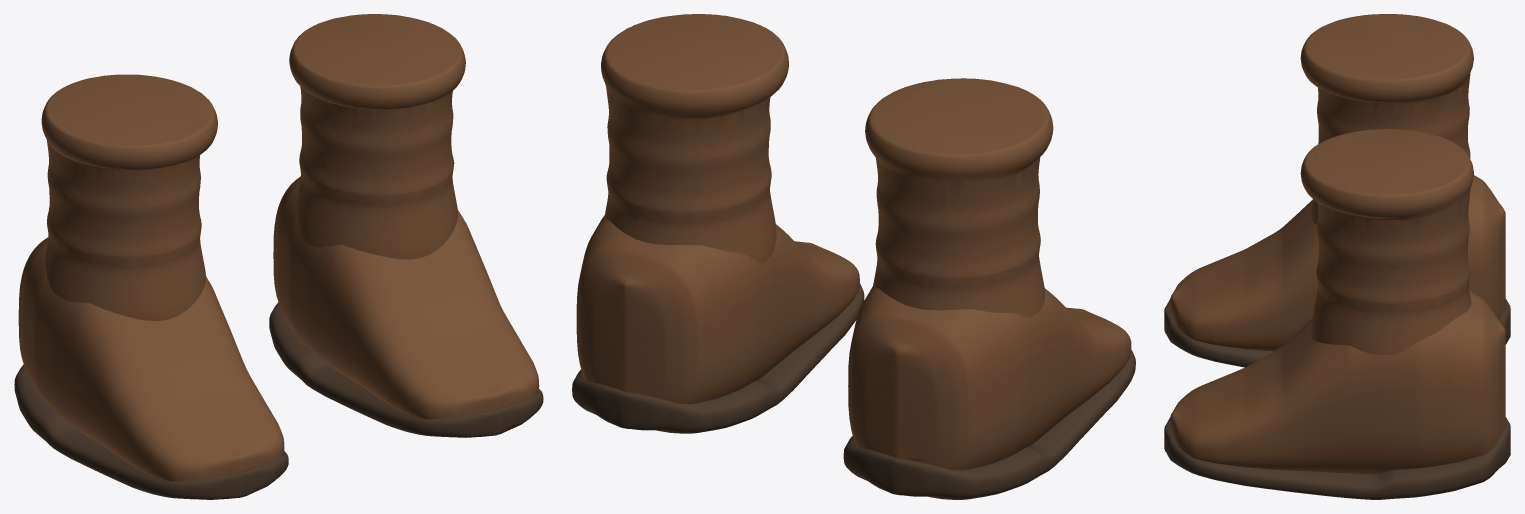
The model's file is boot_candidate_v002.glb.
3 renders of one model, left to right at view 1: azimuth 30°, elevation 25°; view 2: azimuth 150°, elevation 25°; view 3: azimuth 270°, elevation 25°, orthographic. The views are drawn at different scales.
Visible parts, largest first — view 1: SCULPT_BOOT_FOOT_L, SCULPT_BOOT_FOOT_R, SCULPT_BOOT_SHAFT_R, SCULPT_BOOT_SHAFT_L; view 2: SCULPT_BOOT_FOOT_L, SCULPT_BOOT_FOOT_R, SCULPT_BOOT_SHAFT_R, SCULPT_BOOT_SHAFT_L; view 3: SCULPT_BOOT_FOOT_R, SCULPT_BOOT_SHAFT_R, SCULPT_BOOT_FOOT_L, SCULPT_BOOT_SHAFT_L.
Boxes of the visible parts, x1,y1,x2,y2 form: SCULPT_BOOT_FOOT_L: [14, 237, 288, 499]; SCULPT_BOOT_FOOT_R: [269, 176, 543, 437]; SCULPT_BOOT_SHAFT_R: [289, 14, 465, 259]; SCULPT_BOOT_SHAFT_L: [41, 74, 217, 321]; SCULPT_BOOT_FOOT_L: [843, 286, 1135, 499]; SCULPT_BOOT_FOOT_R: [572, 215, 864, 433]; SCULPT_BOOT_SHAFT_R: [601, 14, 788, 262]; SCULPT_BOOT_SHAFT_L: [865, 78, 1053, 317]; SCULPT_BOOT_FOOT_R: [1164, 291, 1510, 499]; SCULPT_BOOT_SHAFT_R: [1300, 129, 1473, 355]; SCULPT_BOOT_FOOT_L: [1164, 175, 1510, 367]; SCULPT_BOOT_SHAFT_L: [1300, 14, 1473, 224].
Size of the model in its own units: 0.3898 by 0.29 by 0.297.
